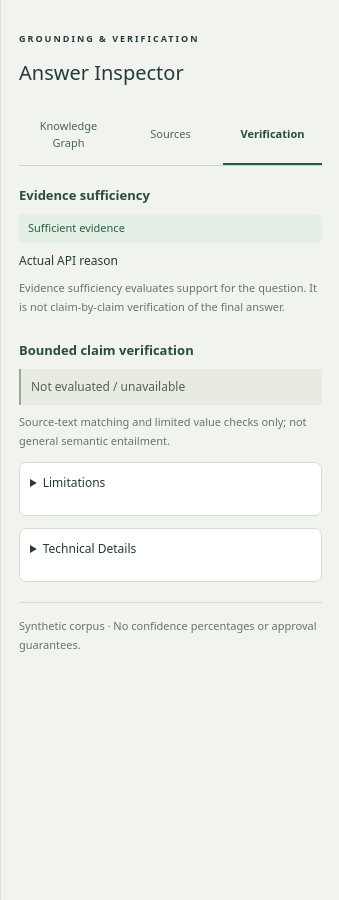
distinguishes actual evidence decision from unavailable verification and approval
The width and height of the screenshot is (339, 900).
Check: the text "Actual API reason" is shown, box [19,252,118,269]
Check: the text "Not evaluated / unavailable" is shown, box [19,369,322,405]
Click the heading "Limitations": click(74, 483) [43,474,105,491]
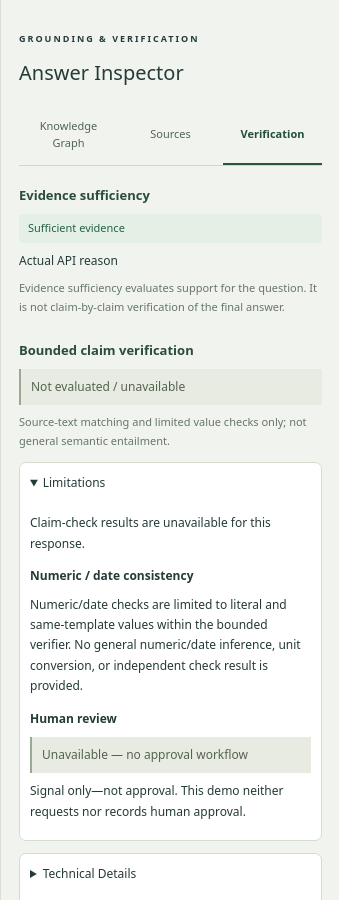
Check: the text "not claim-by-claim verification" is shown, box [19,280,317,314]
Check: the text "Unavailable — no approval workflow" is shown, box [30,737,311,773]
